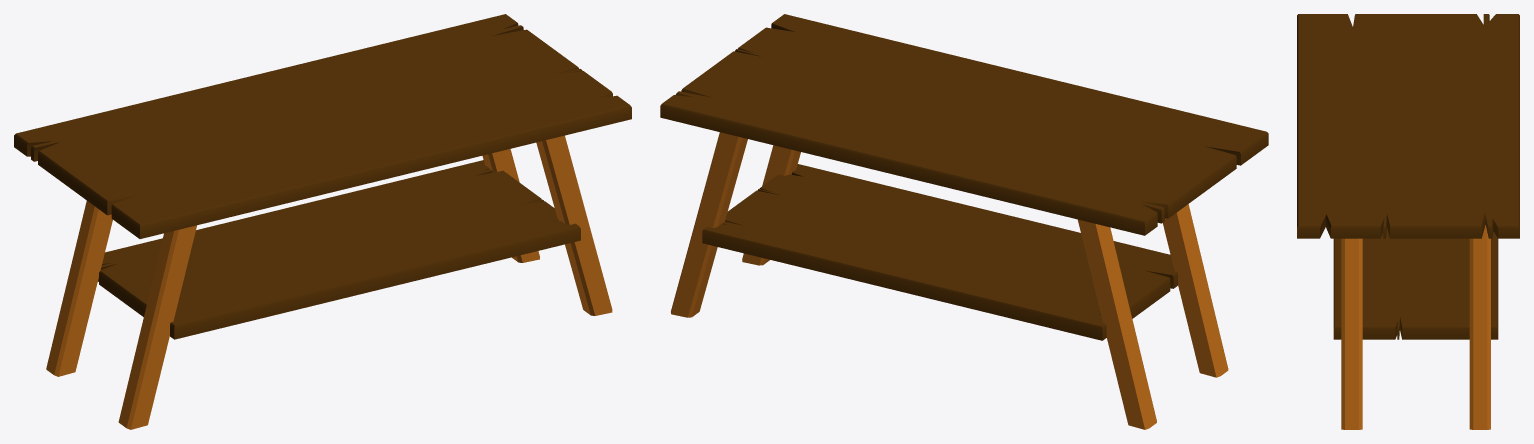
The model's file is GR_sciencetafel.fbx.
The picture shows the model from 3 angles, left to right: view 1: azimuth 30°, elevation 25°; view 2: azimuth 150°, elevation 25°; view 3: azimuth 270°, elevation 25°; orthographic projection. The views are drawn at different scales.
Visible parts, largest first — view 1: bladen; view 2: bladen; view 3: bladen.
Boxes of the visible parts, x1,y1,x2,y2 form: bladen: [14, 14, 631, 429]; bladen: [660, 14, 1268, 429]; bladen: [1297, 14, 1519, 429].
Size of the model in its own units: 199 by 86.38 by 86.77.
